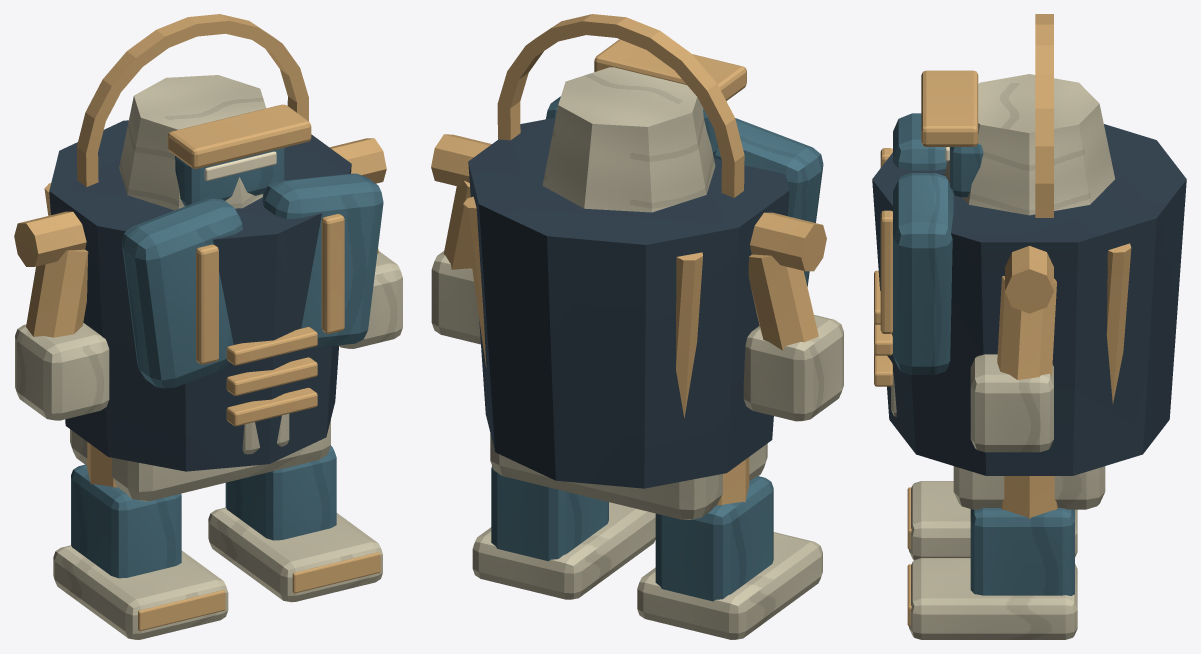
The model's file is warden.glb.
The picture shows the model from 3 angles, left to right: view 1: azimuth 30°, elevation 25°; view 2: azimuth 150°, elevation 25°; view 3: azimuth 270°, elevation 25°; orthographic projection. The views are drawn at different scales.
Parts seen in each view (by area): view 1: torso_mesh, head_mesh, legL_mesh, legR_mesh, armL_mesh, armR_mesh; view 2: torso_mesh, head_mesh, legL_mesh, legR_mesh, armL_mesh, armR_mesh; view 3: torso_mesh, head_mesh, legR_mesh, armR_mesh, legL_mesh.
Part boxes in pixels (x1,y1,x2,y2): torso_mesh: (14,120,386,501); head_mesh: (76,14,311,210); legL_mesh: (53,442,228,639); legR_mesh: (208,446,382,602); armL_mesh: (15,249,109,420); armR_mesh: (339,248,402,348); torso_mesh: (431,96,826,519); head_mesh: (497,14,746,212); legL_mesh: (637,457,822,639); legR_mesh: (472,466,655,599); armL_mesh: (743,254,843,421); armR_mesh: (431,181,480,344); torso_mesh: (872,113,1186,509); head_mesh: (921,14,1114,217); legR_mesh: (907,476,1077,639); armR_mesh: (970,276,1056,452); legL_mesh: (907,481,1077,559).
Bounding box in the file's own units: 2.22 × 3.24 × 1.66.
Materials: 5 (2 with a texture image).
